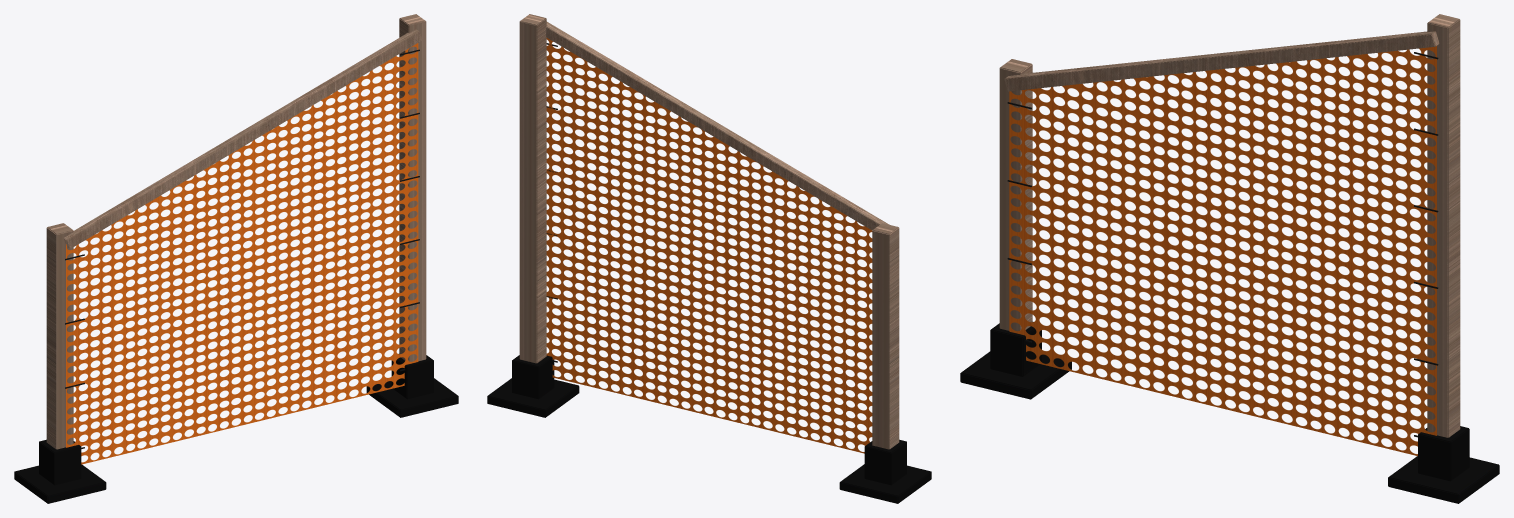
File: obj_mesh_wall_diagonal.glb
The picture shows the model from 3 angles, left to right: view 1: azimuth 30°, elevation 25°; view 2: azimuth 150°, elevation 25°; view 3: azimuth 330°, elevation 25°; orthographic projection. The views are drawn at different scales.
Visible parts, largest first — view 1: mesh, mesh_wall_diagonal_body; view 2: mesh, mesh_wall_diagonal_body; view 3: mesh, mesh_wall_diagonal_body.
Boxes of the visible parts, box(x1,y1,x2,y2) form: mesh: box(66, 43, 418, 464); mesh_wall_diagonal_body: box(14, 14, 458, 503); mesh: box(546, 38, 872, 453); mesh_wall_diagonal_body: box(487, 14, 931, 503); mesh: box(1009, 46, 1436, 455); mesh_wall_diagonal_body: box(960, 14, 1499, 503).
Bounding box in the file's own units: 2.1 × 1.85 × 0.3.
3 materials, 2 textured.
